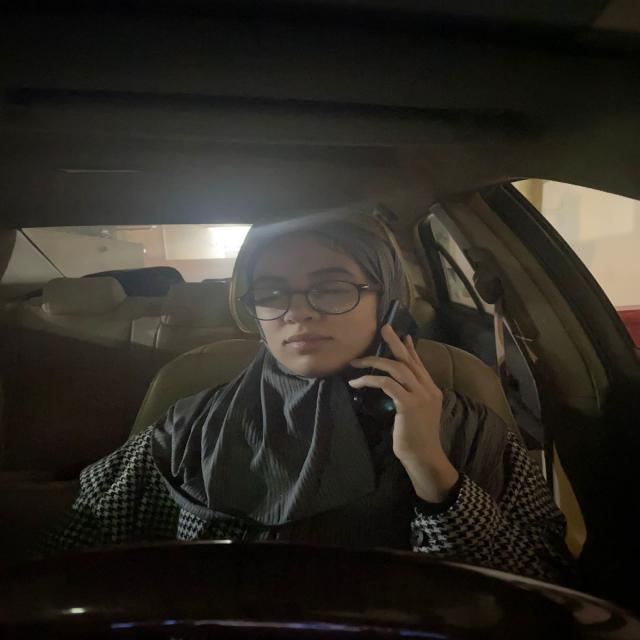mobile: (346, 298, 432, 392)
person: (232, 208, 386, 391)
